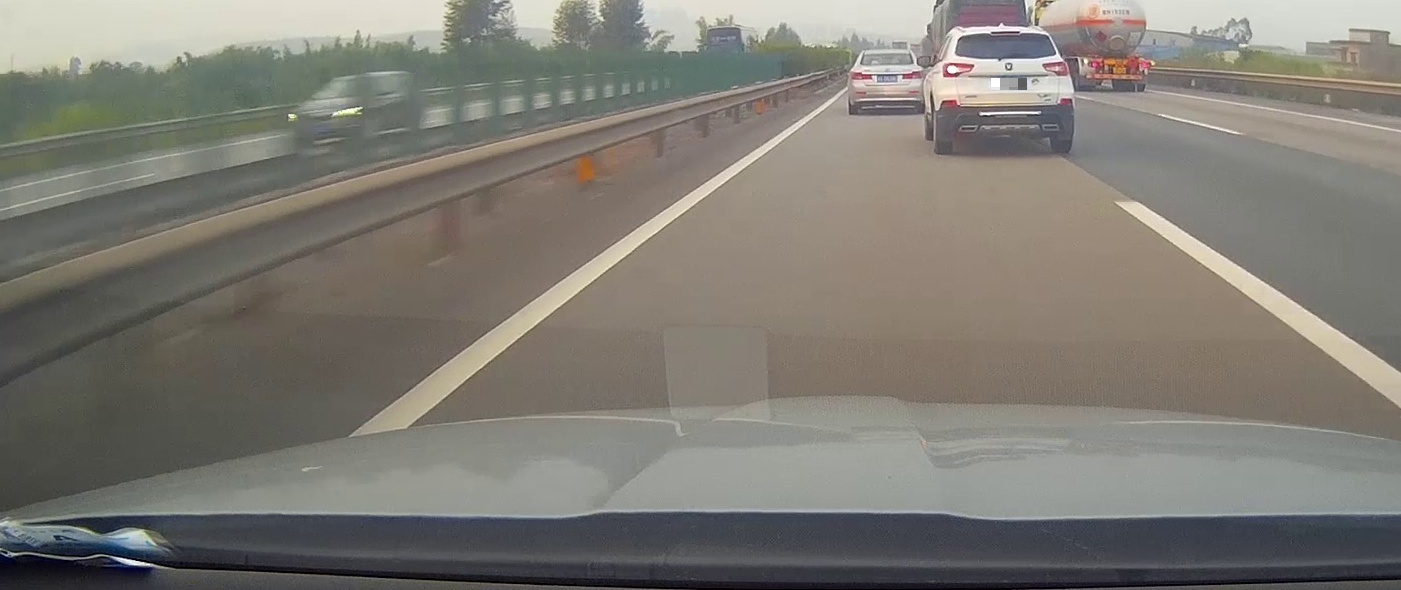L_light: (943, 63, 975, 78), (850, 71, 872, 80), (1087, 61, 1102, 68)
R_light: (1041, 61, 1069, 77), (902, 70, 923, 80), (1139, 63, 1148, 68)
T_light: (991, 31, 1021, 35), (881, 53, 892, 56), (1114, 58, 1122, 61)
day-left: (938, 26, 1075, 154)
day-no: (849, 49, 925, 115), (1077, 56, 1149, 92)
plate_1: (991, 78, 1027, 90)
